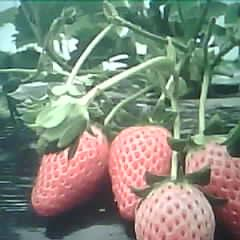straw-ripe: (33, 123, 111, 217), (109, 125, 173, 217)
